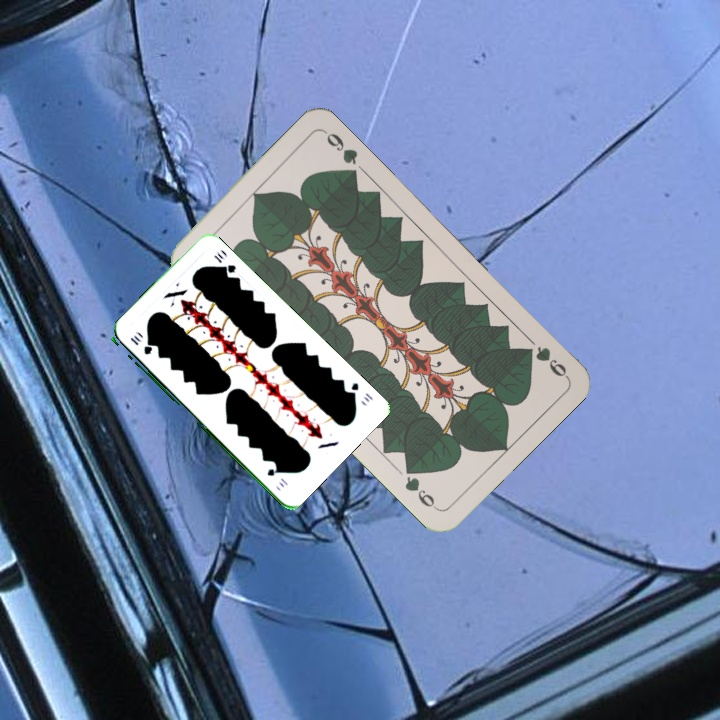G10: (343, 378, 376, 405), (126, 331, 154, 357)
G9: (520, 342, 571, 380)
